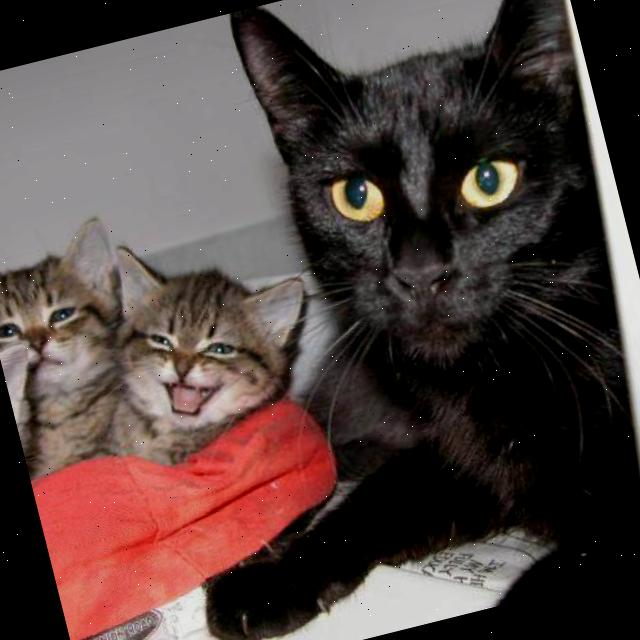cat-eye-normal: (442, 140, 538, 228), (310, 153, 403, 243), (190, 324, 246, 372), (39, 292, 89, 338), (140, 321, 188, 363), (0, 311, 32, 344)
